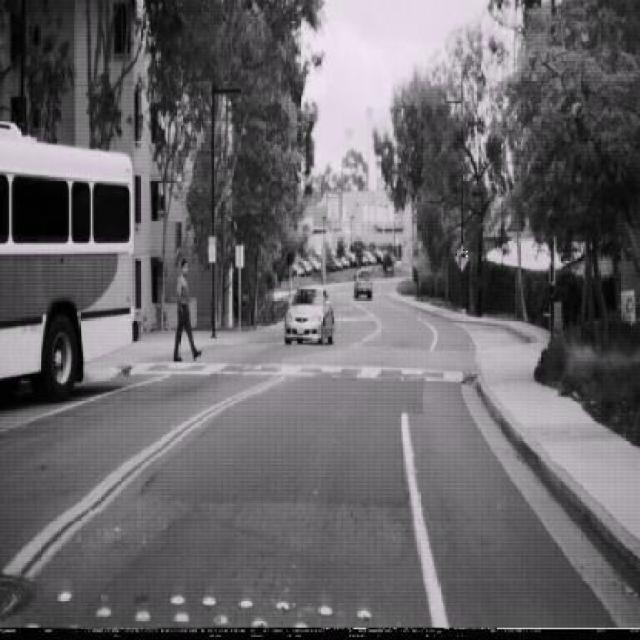turnRight: (454, 243, 469, 272)
